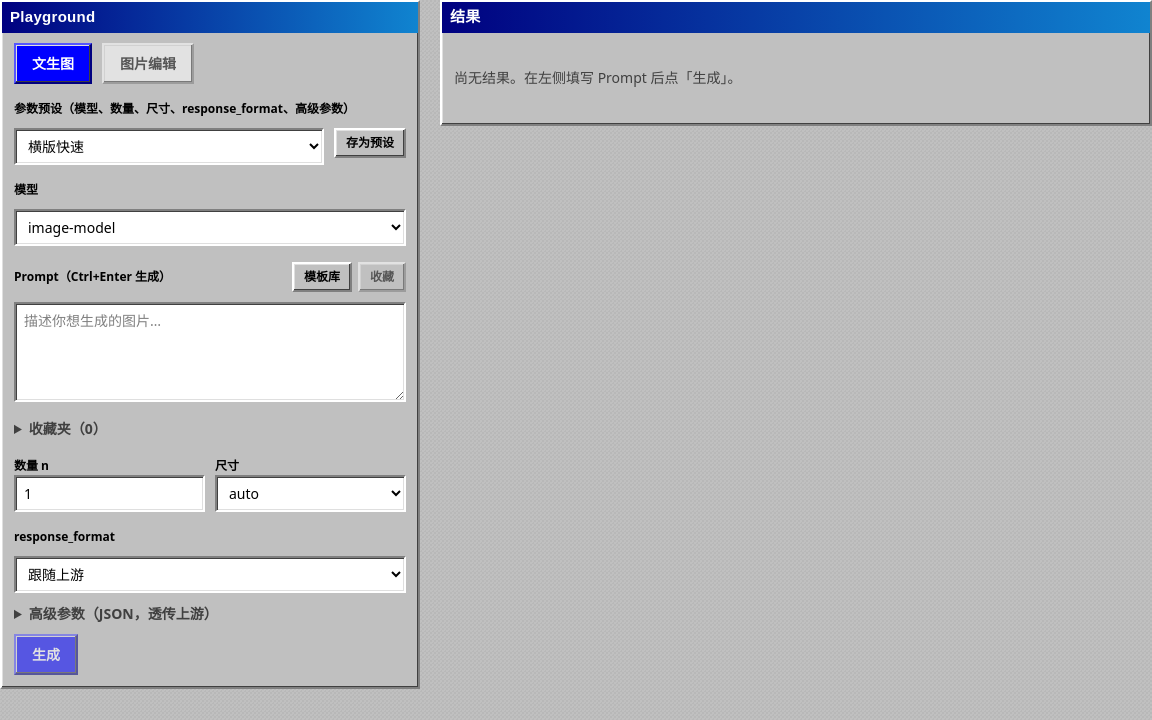
Test: Playground parameter presets › applies a preset to the form controls
Select "横版快速" in the dropdown labelled "参数预设（模型、数量、尺寸、response_format、高级参数）" at (169, 146), box [14, 128, 324, 164]
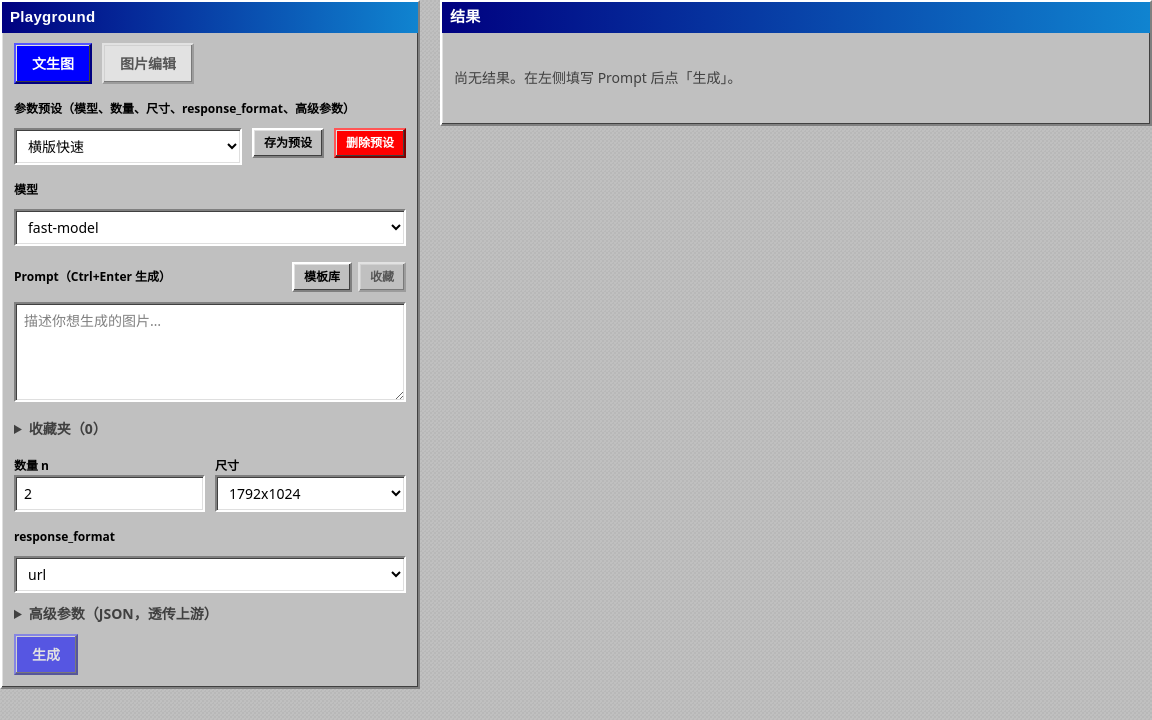
Expected: the dropdown labelled "模型" shows "fast-model", [14, 208, 406, 246]
Expected: the number field labelled "数量 n" holds "2", [14, 474, 205, 512]
Expected: the dropdown labelled "尺寸" shows "1792x1024", [215, 474, 406, 512]
